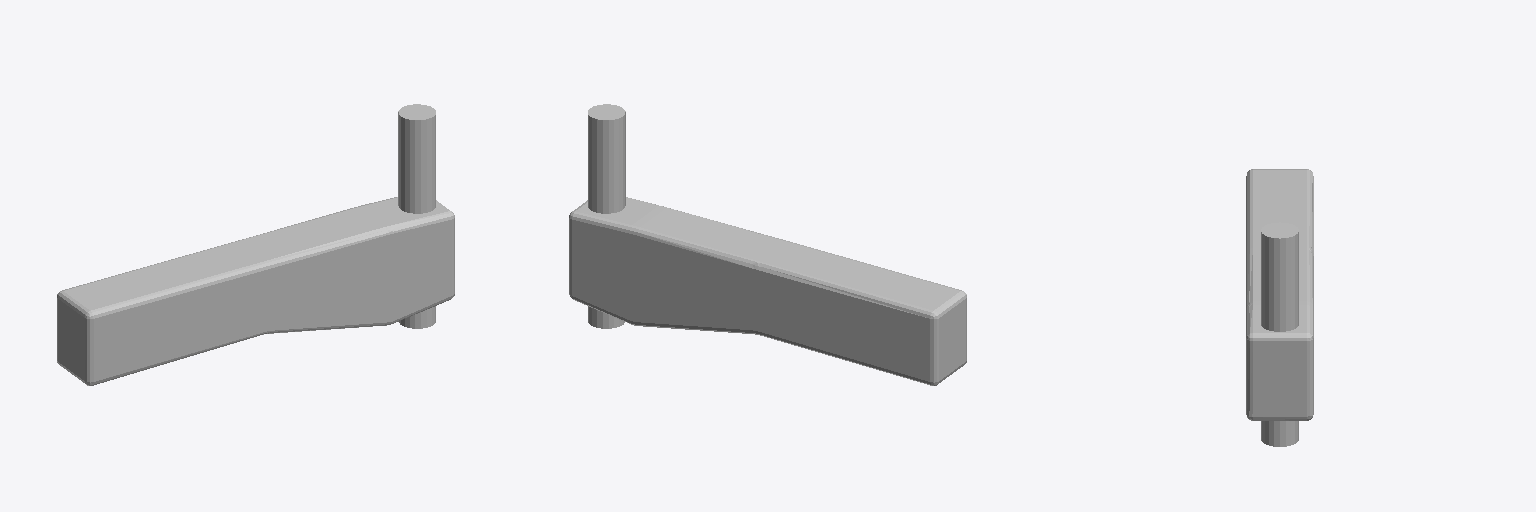
Rendered from mount_arm.obj.
The picture shows the model from 3 angles: view 1: azimuth 30°, elevation 25°; view 2: azimuth 150°, elevation 25°; view 3: azimuth 270°, elevation 25°; orthographic projection.
Visible parts, largest first — view 1: mount_arm; view 2: mount_arm; view 3: mount_arm.
Part boxes in pixels (x1,y1,x2,y2): mount_arm: (57,104,454,385); mount_arm: (569,104,966,385); mount_arm: (1246,169,1313,446).
Size of the model in its own units: 1.74 by 0.9375 by 0.273.